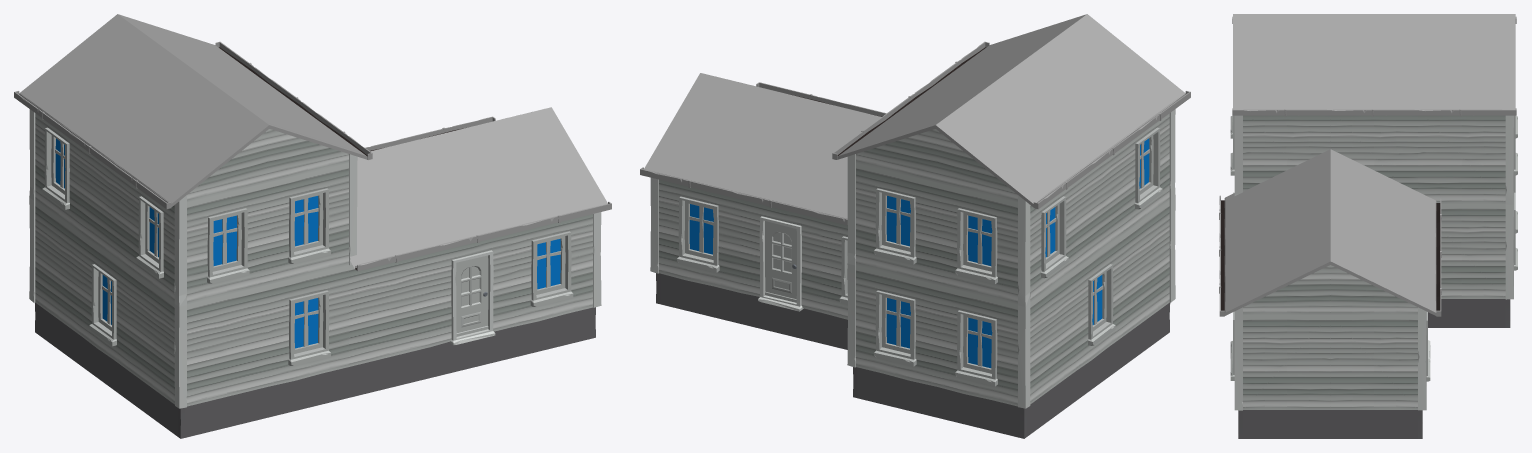
Rendered from SM_Bld_House_Preset_10.fbx.
The picture shows the model from 3 angles, left to right: view 1: azimuth 30°, elevation 25°; view 2: azimuth 150°, elevation 25°; view 3: azimuth 270°, elevation 25°; orthographic projection. The views are drawn at different scales.
Visible parts, largest first — view 1: SM_Bld_House_Preset_10; view 2: SM_Bld_House_Preset_10; view 3: SM_Bld_House_Preset_10.
Boxes of the visible parts, bbox=[...] form: SM_Bld_House_Preset_10: bbox=[14, 14, 611, 438]; SM_Bld_House_Preset_10: bbox=[640, 14, 1190, 438]; SM_Bld_House_Preset_10: bbox=[1219, 14, 1517, 438].
Size of the model in its own units: 1350 by 867 by 854.
